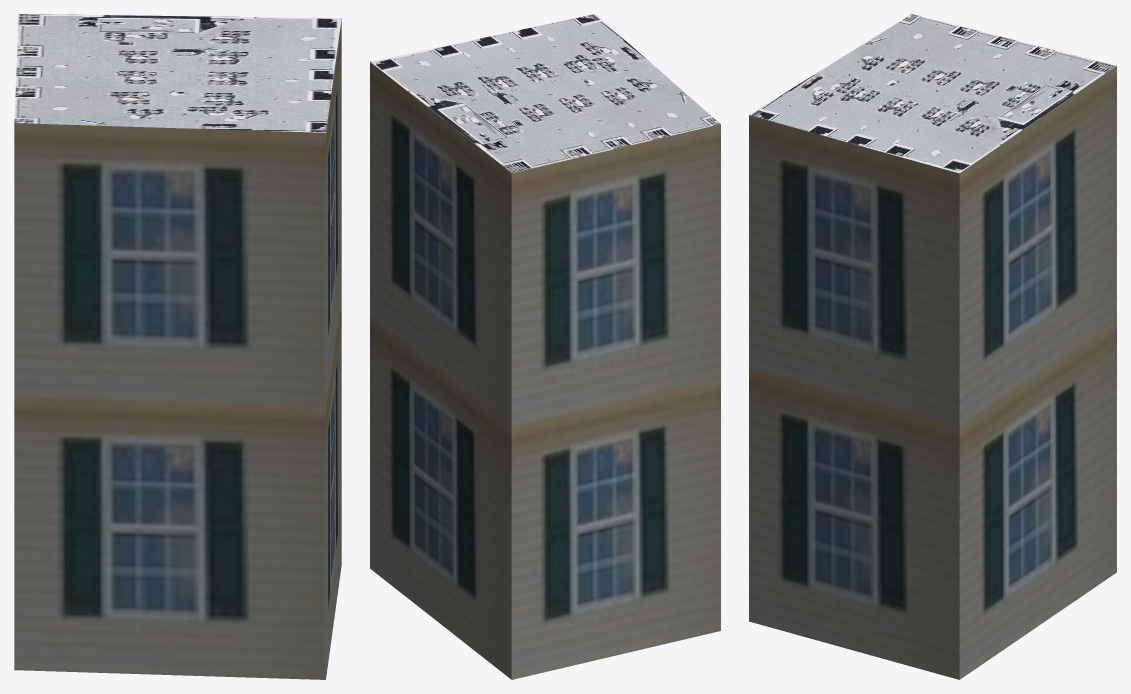
The model's file is ResTex__2470.fbx.
3 renders of one model, left to right at view 1: azimuth 30°, elevation 25°; view 2: azimuth 150°, elevation 25°; view 3: azimuth 270°, elevation 25°, orthographic. The views are drawn at different scales.
Visible parts, largest first — view 1: CityEngineMaterial_7_m, CityEngineMaterial_m; view 2: CityEngineMaterial_7_m, CityEngineMaterial_m; view 3: CityEngineMaterial_7_m, CityEngineMaterial_m.
Part boxes in pixels (box(x1,y1,x2,y2)): CityEngineMaterial_7_m: box(14, 19, 341, 679); CityEngineMaterial_m: box(14, 14, 341, 132); CityEngineMaterial_7_m: box(370, 62, 720, 679); CityEngineMaterial_m: box(370, 14, 720, 172); CityEngineMaterial_7_m: box(749, 66, 1116, 679); CityEngineMaterial_m: box(749, 14, 1116, 173).
Size of the model in its own units: 4.05 by 6 by 3.95.
Materials: 2 (2 with a texture image).
